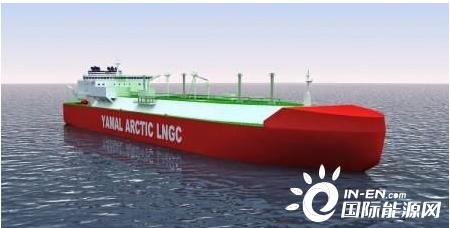Cargoship: (59, 60, 387, 171)
